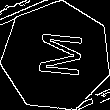M_W: (29, 31, 84, 82)
